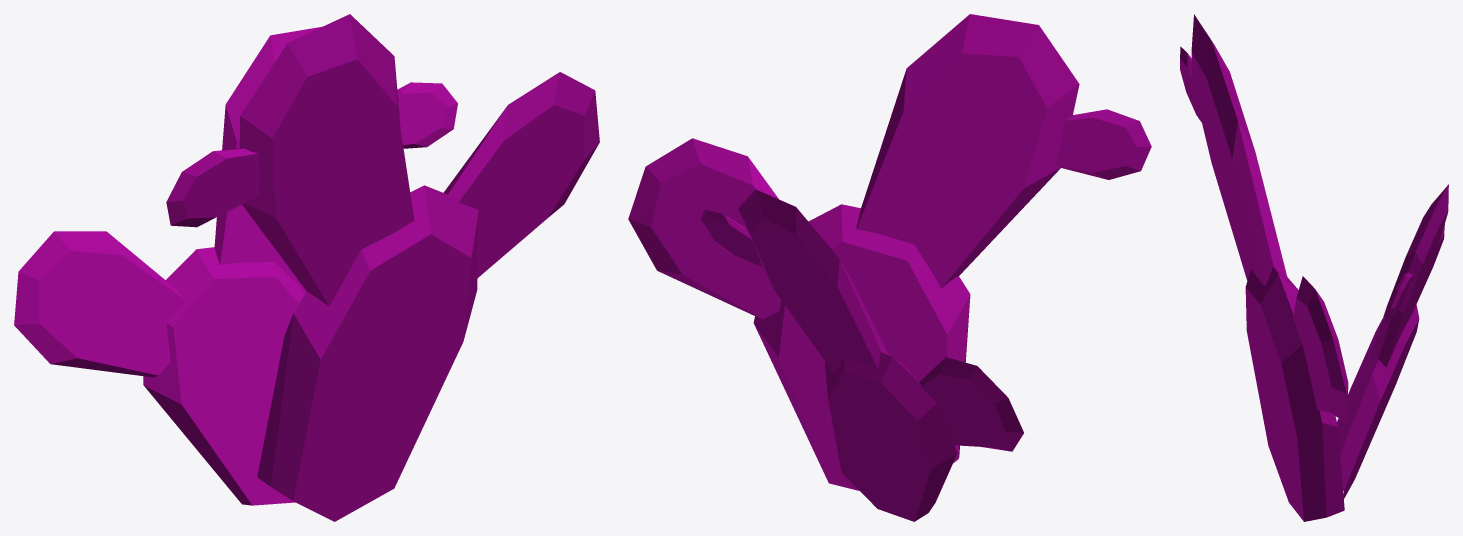
The model's file is Collider_Cactus_Flower_002.fbx.
3 renders of one model, left to right at view 1: azimuth 30°, elevation 25°; view 2: azimuth 150°, elevation 25°; view 3: azimuth 270°, elevation 25°, orthographic. The views are drawn at different scales.
Visible parts, largest first — view 1: Collider_Cactus_Flower_02; view 2: Collider_Cactus_Flower_02; view 3: Collider_Cactus_Flower_02.
Boxes of the visible parts, x1,y1,x2,y2 form: Collider_Cactus_Flower_02: (14, 14, 599, 521); Collider_Cactus_Flower_02: (628, 14, 1151, 521); Collider_Cactus_Flower_02: (1180, 14, 1448, 521).
Size of the model in its own units: 1.77 by 1.74 by 0.9435.
